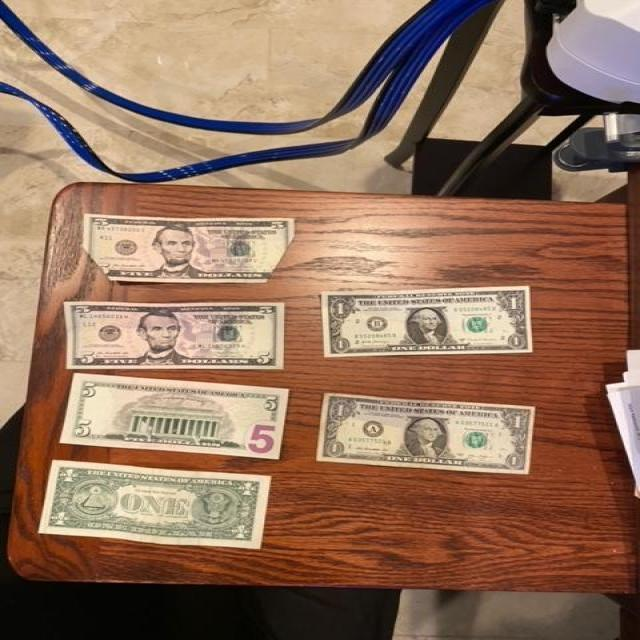1-Back: (32, 454, 283, 550)
1-Front: (313, 388, 543, 479), (316, 284, 543, 366)
5-Back: (53, 371, 300, 463)
5-Front: (53, 297, 296, 378), (80, 209, 301, 288)
